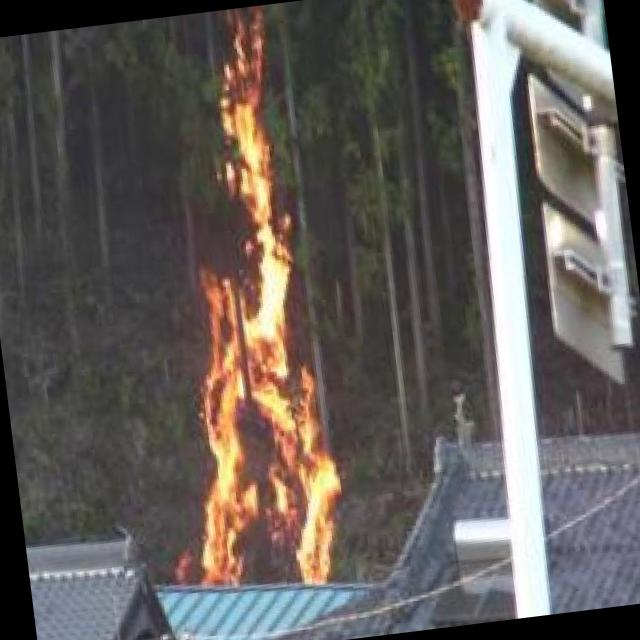Fire: (136, 22, 365, 600)
